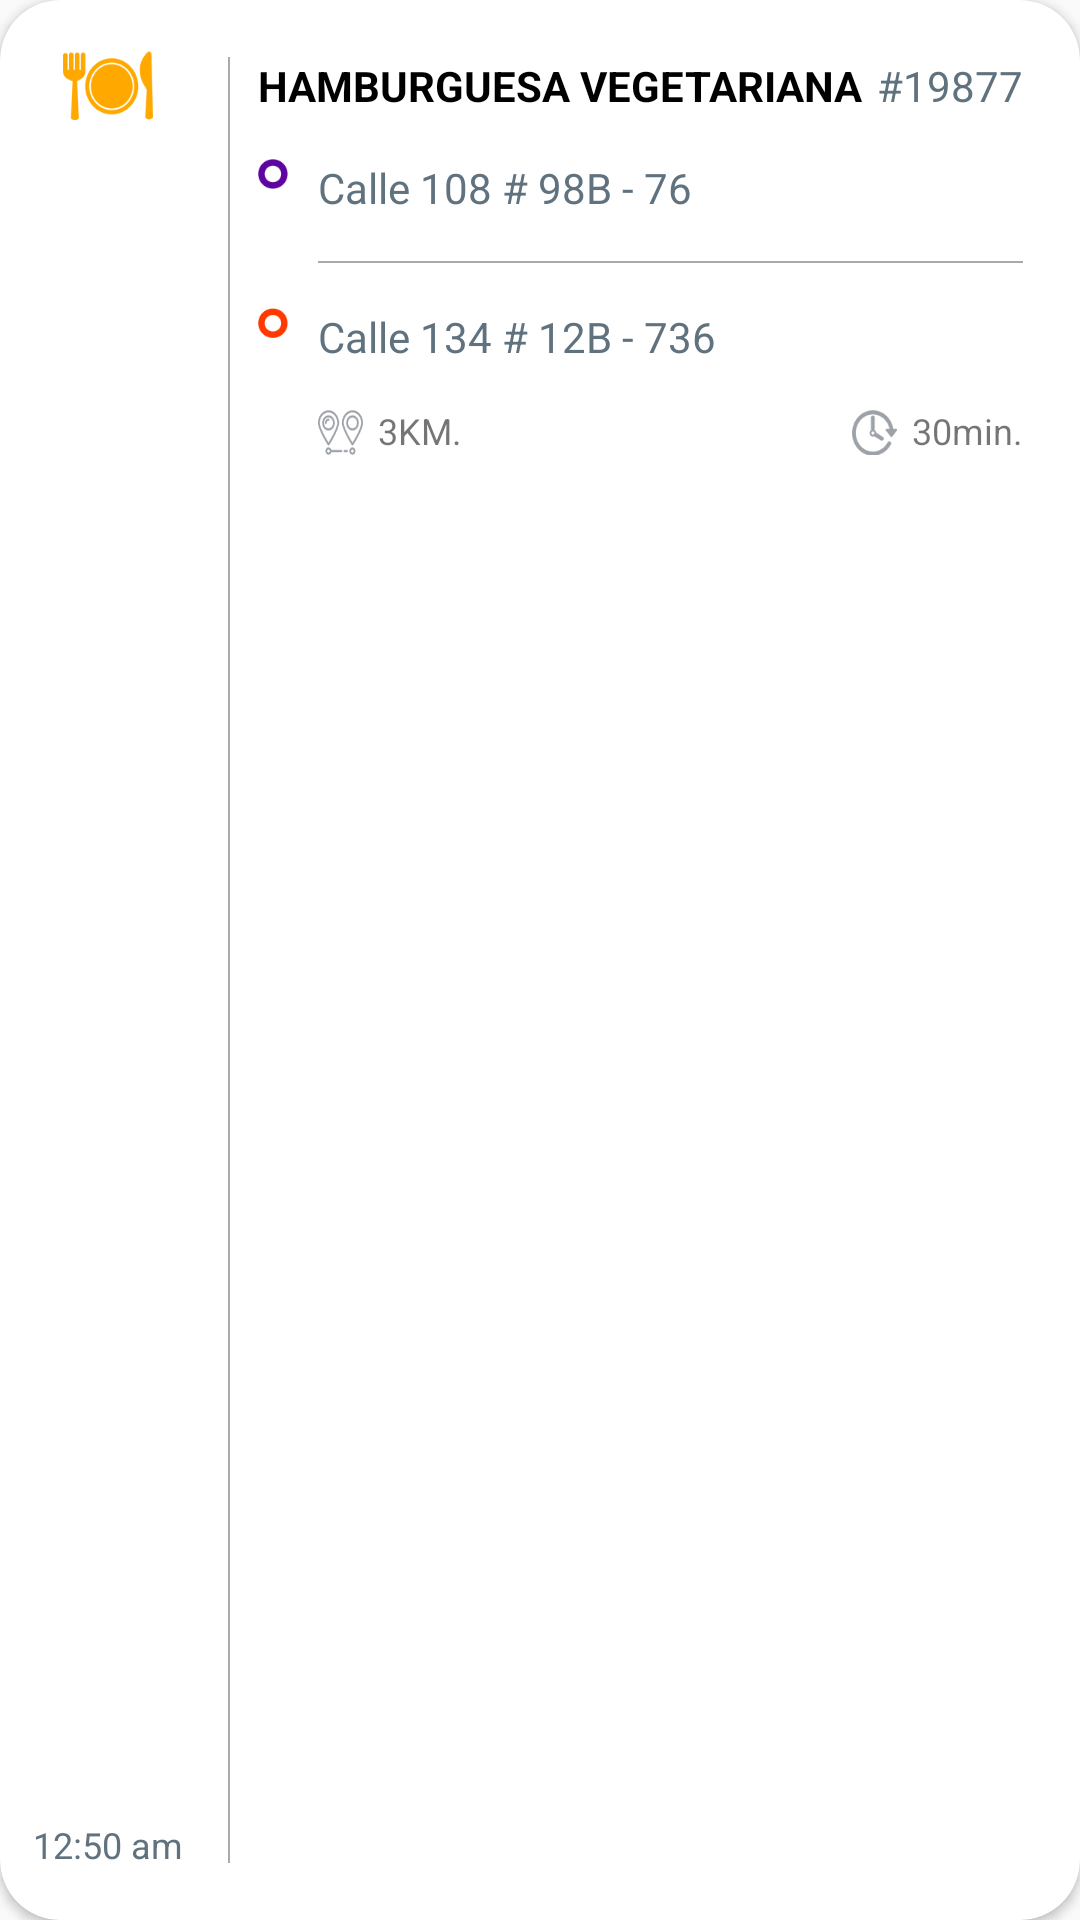

Named icons in this screenshot (1080px x 1920px) and their bounding boxes, (x1,y1,x2,y2):
distance: (318,410,363,455)
food: (63,51,153,120)
list marker: (258,159,288,189), (258,308,288,338)
time: (852,410,897,455)
